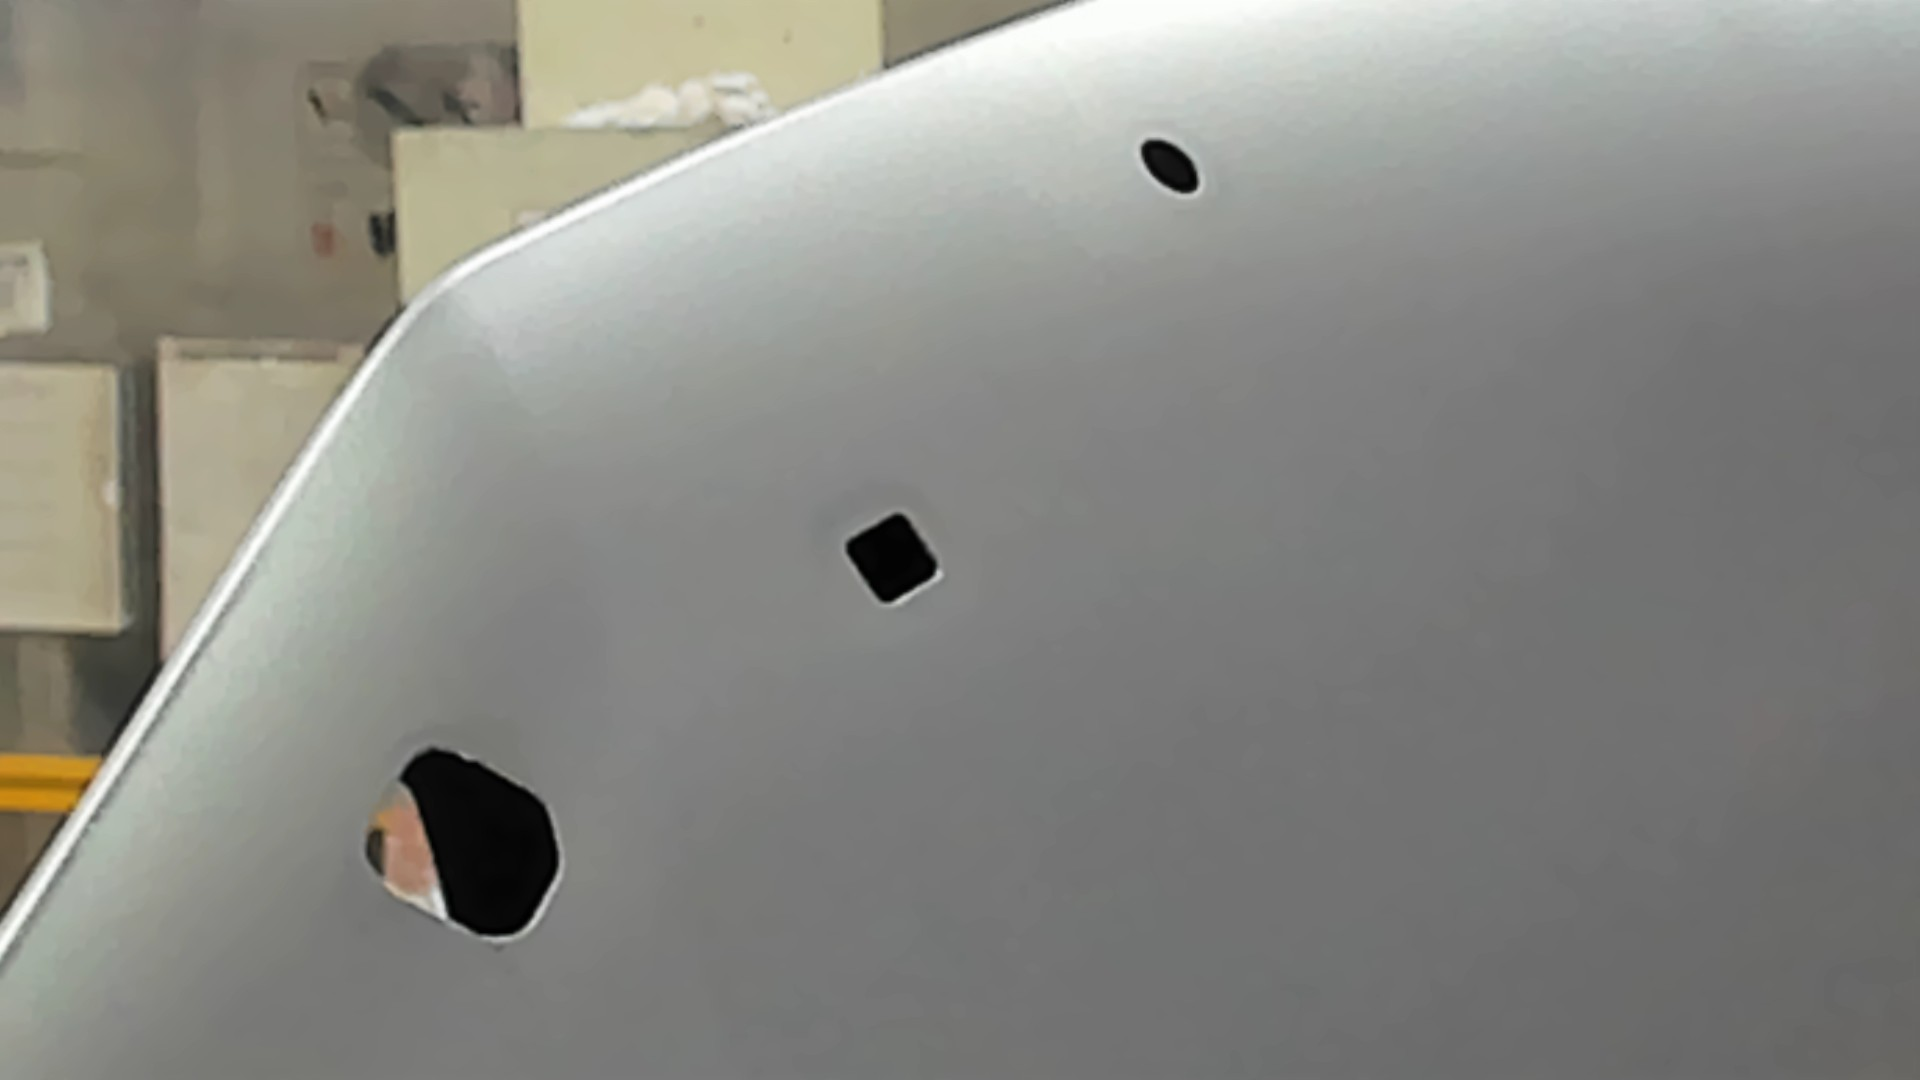chico: (1133, 128, 1207, 199)
grande: (352, 741, 574, 951)
mediano: (836, 504, 949, 615)
